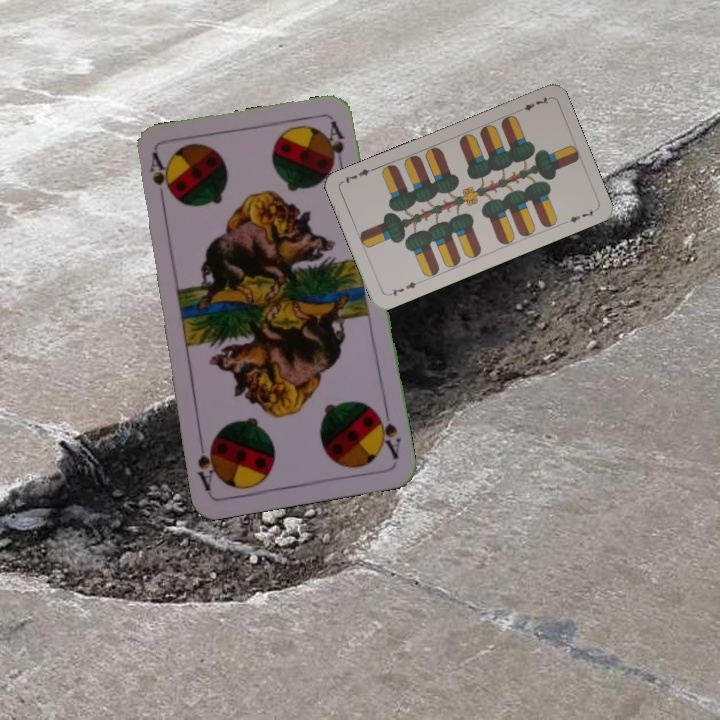E7: (513, 92, 552, 115), (384, 278, 419, 298)
SA: (372, 404, 403, 462), (145, 149, 173, 208)
